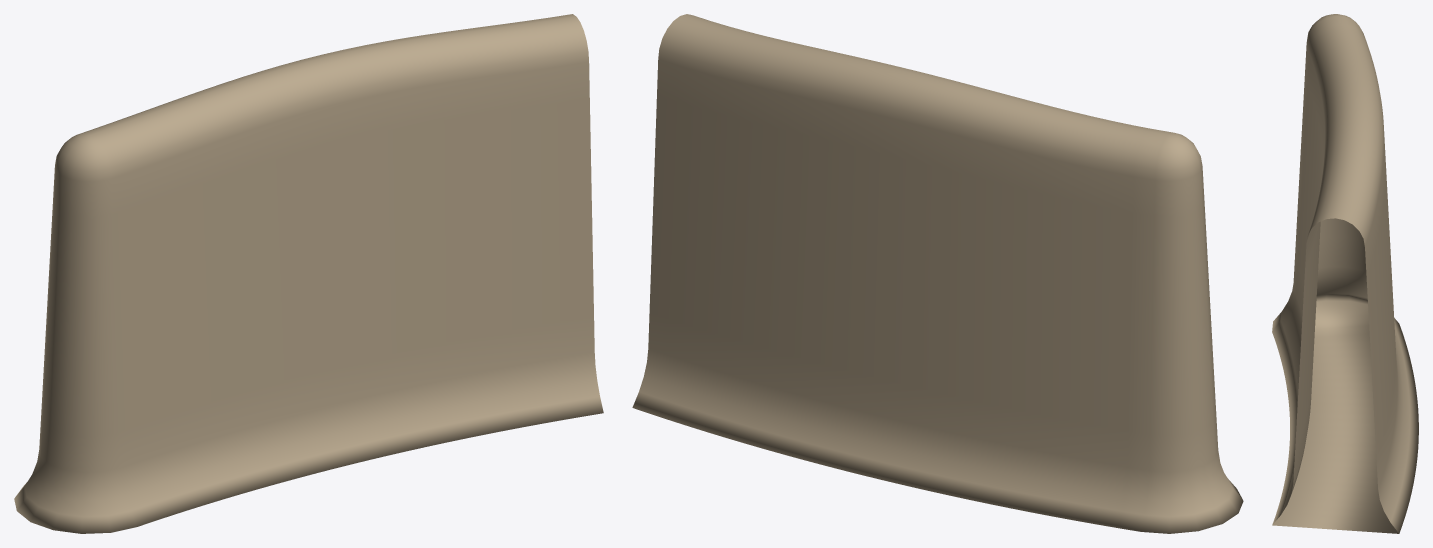
Rendered from KFB_Wall_curved_ring_r4_capB.r4.glb.
3 views of the same model, side by side, from view 1: azimuth 30°, elevation 25°; view 2: azimuth 150°, elevation 25°; view 3: azimuth 270°, elevation 25° (orthographic). The views are drawn at different scales.
Parts seen in each view (by area): view 1: KFB_Wall_curved_ring_r4_capB; view 2: KFB_Wall_curved_ring_r4_capB; view 3: KFB_Wall_curved_ring_r4_capB.
Boxes of the visible parts, x1,y1,x2,y2 form: KFB_Wall_curved_ring_r4_capB: [14, 14, 603, 533]; KFB_Wall_curved_ring_r4_capB: [632, 14, 1243, 533]; KFB_Wall_curved_ring_r4_capB: [1272, 14, 1418, 533].
Bounding box in the file's own units: 5.78 × 3.69 × 1.54.
